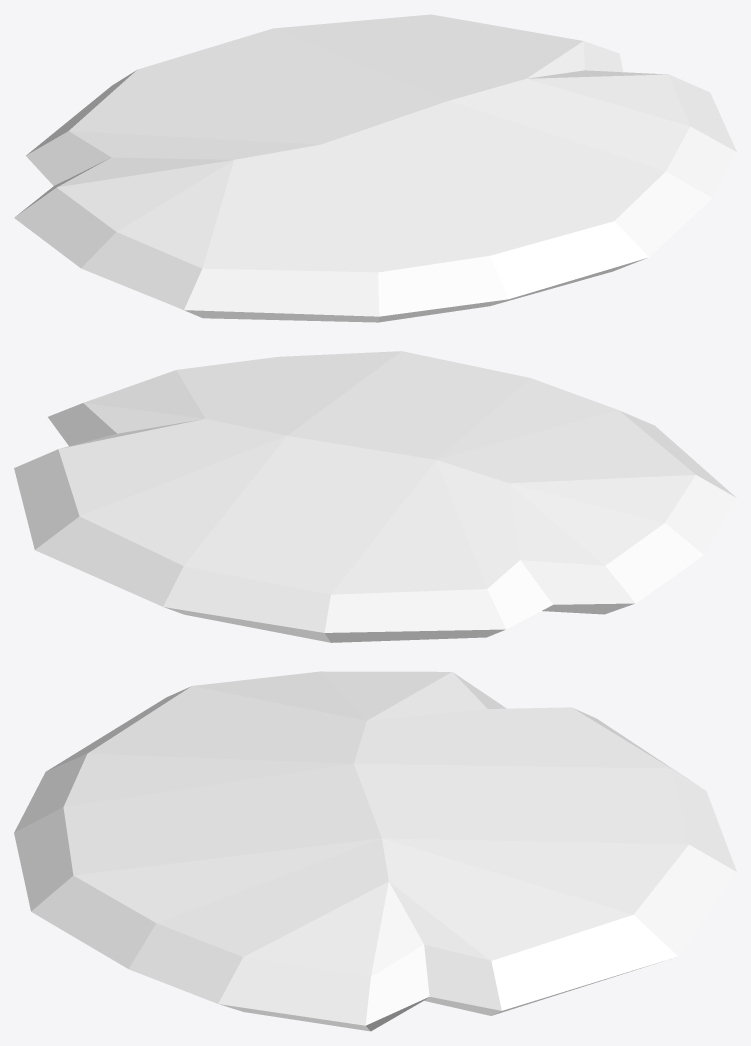
File: SM_Prop_Coral_10.glb
The picture shows the model from 3 angles, top to bottom: view 1: azimuth 30°, elevation 25°; view 2: azimuth 150°, elevation 25°; view 3: azimuth 270°, elevation 25°; orthographic projection. The views are drawn at different scales.
Parts seen in each view (by area): view 1: SM_Prop_Coral_10; view 2: SM_Prop_Coral_10; view 3: SM_Prop_Coral_10.
Part boxes in pixels (<box>): SM_Prop_Coral_10: <box>14,14,736,322</box>; SM_Prop_Coral_10: <box>14,351,736,642</box>; SM_Prop_Coral_10: <box>14,671,736,1031</box>.
Bounding box in the file's own units: 0.4596 × 0.0617 × 0.4053.
1 material, 1 textured.
